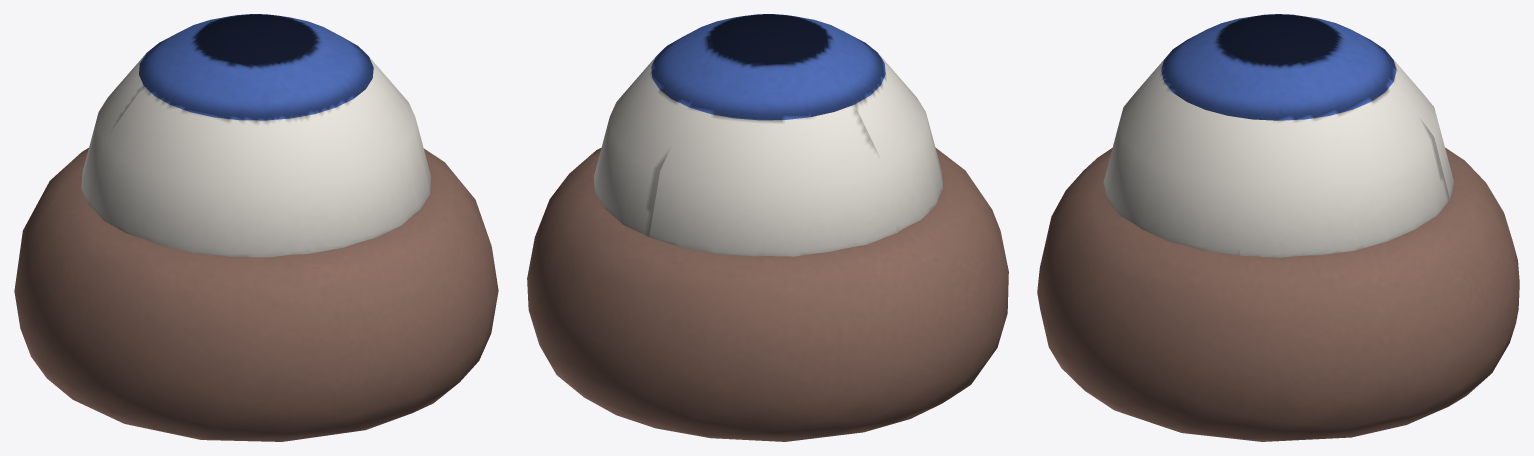
The model's file is cpart_eye_round.glb.
3 views of the same model, side by side, from view 1: azimuth 30°, elevation 25°; view 2: azimuth 150°, elevation 25°; view 3: azimuth 270°, elevation 25° (orthographic).
Parts seen in each view (by area): view 1: Lid, EyeRound; view 2: Lid, EyeRound; view 3: Lid, EyeRound.
Part boxes in pixels (left/top/right/bottom): Lid: left=14, top=148, right=498, bottom=441; EyeRound: left=81, top=14, right=431, bottom=257; Lid: left=527, top=147, right=1008, bottom=441; EyeRound: left=593, top=14, right=943, bottom=256; Lid: left=1037, top=147, right=1519, bottom=441; EyeRound: left=1103, top=14, right=1454, bottom=257.
Size of the model in its own units: 0.1595 by 0.1179 by 0.1591.
3 materials, 3 textured.
